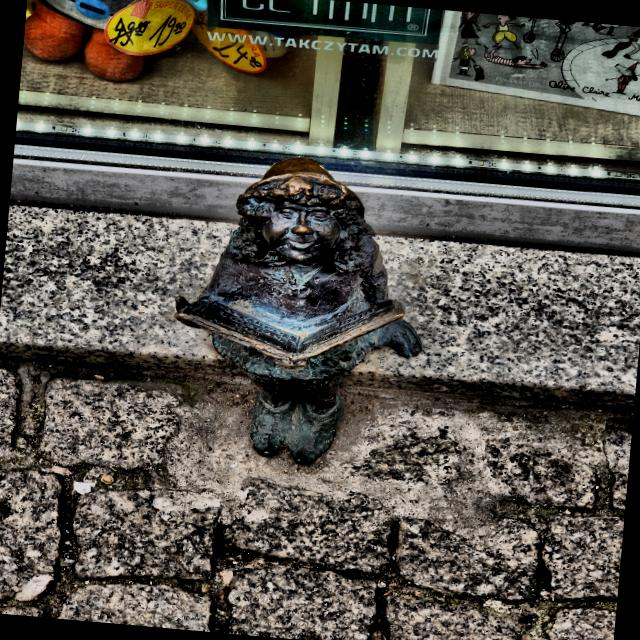Ksiegarka: (175, 157, 421, 463)
